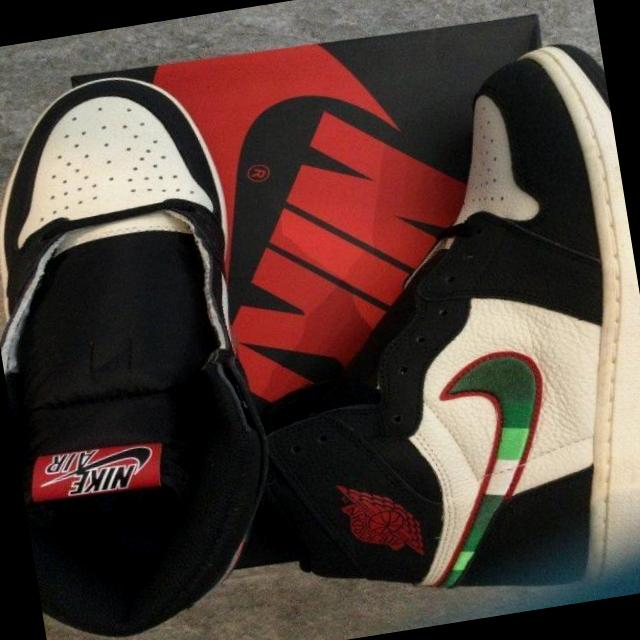nike_original_jordan: (204, 26, 640, 638), (0, 56, 302, 640)
